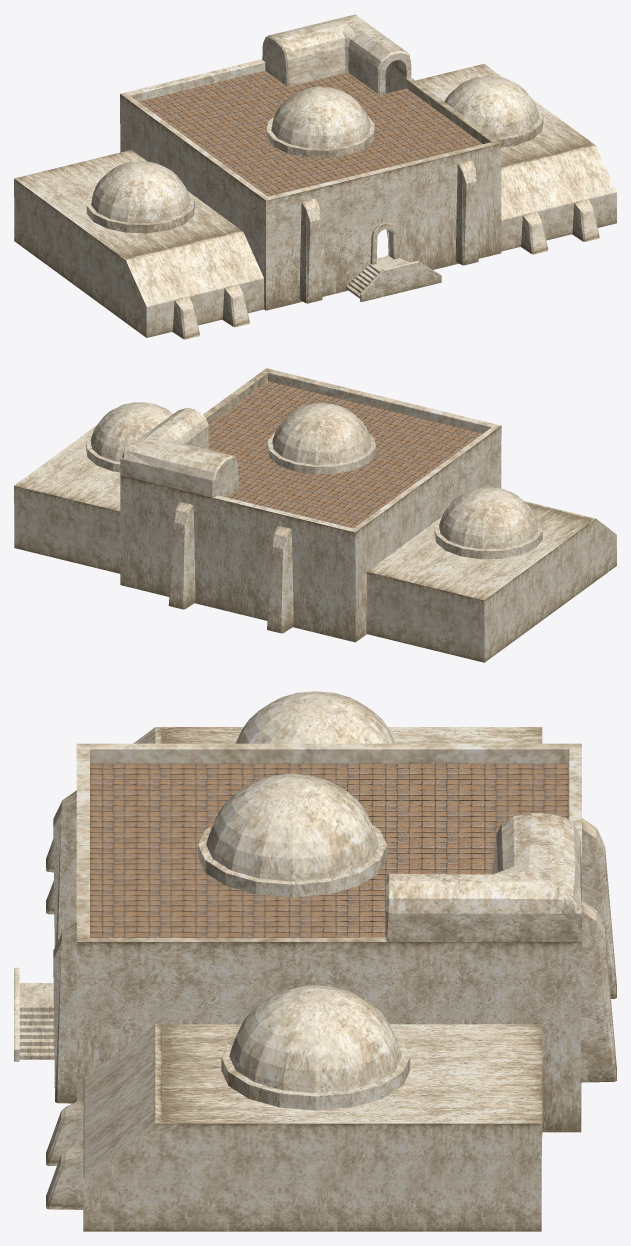
Rendered from thm_tato_assoc_hall_civ_s02_r0_mesh_l0.fbx.
The picture shows the model from 3 angles, top to bottom: view 1: azimuth 30°, elevation 25°; view 2: azimuth 150°, elevation 25°; view 3: azimuth 270°, elevation 25°; orthographic projection. The views are drawn at different scales.
Parts seen in each view (by area): view 1: mesh_node; view 2: mesh_node; view 3: mesh_node.
Part boxes in pixels (box(x1,y1,x2,y2)): mesh_node: box(14, 14, 616, 339); mesh_node: box(14, 368, 616, 662); mesh_node: box(14, 691, 616, 1231).
Size of the model in its own units: 52.76 by 15.57 by 33.88.
